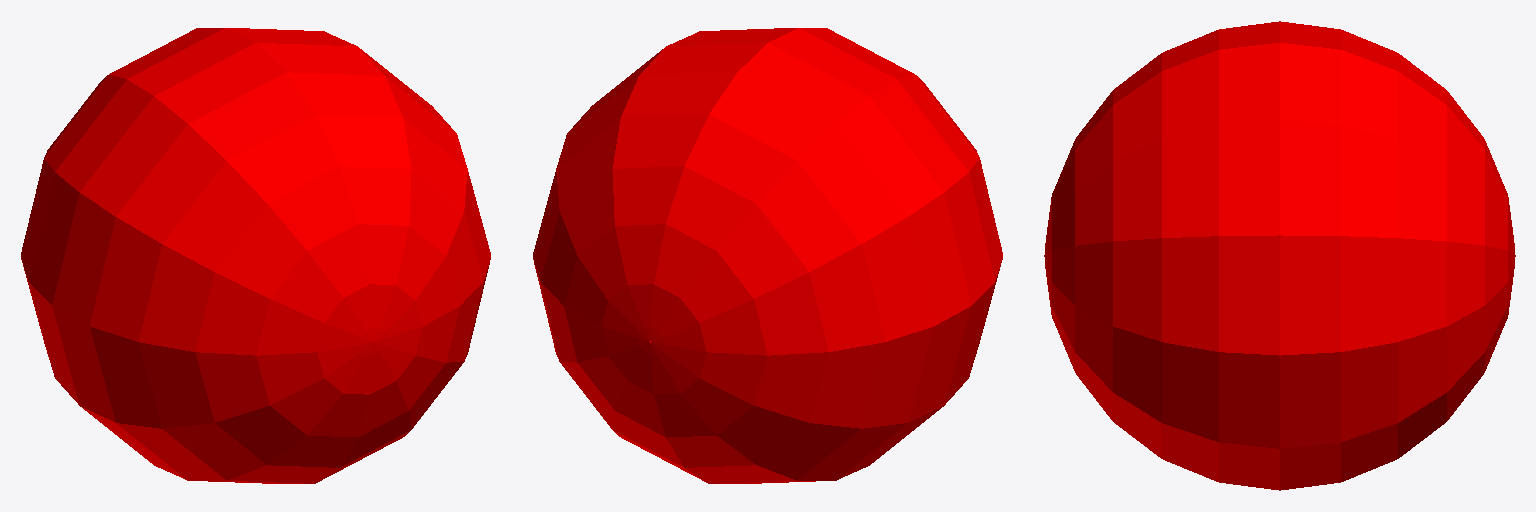
URDF robot description (light):
<?xml version="1.0" ?>
<robot name="light">
  <link name="baseLink">
    <inertial>
      <origin rpy="0 0 0" xyz="0 0 0"/>
       <mass value="0.0"/>
       <inertia ixx="0" ixy="0" ixz="0" iyy="0" iyz="0" izz="0"/>
    </inertial>
    <visual>
      <origin rpy="0 0 0" xyz="0 0 0."/>
      <geometry>
				<mesh filename="sphere.obj" scale="0.3 0.3 0.3"/>      
      </geometry>
      <material name="red">
        <color rgba="1 0 0 1"/>
    </material>
    </visual>
    <collision>
      <origin rpy="0 0 0" xyz="0 0 0."/>
      <geometry>
	      <mesh filename="sphere.obj" scale="0.3 0.3 0.3"/> 
      </geometry>
    </collision>
  </link>
  <lightsource link='baseLink' luminosity='1' color='red'/>



</robot>

--- Facts derived from the render (not from the file) ---
The picture shows the robot from 3 angles, left to right: view 1: azimuth 30°, elevation 25°; view 2: azimuth 150°, elevation 25°; view 3: azimuth 270°, elevation 25°; orthographic projection.
Robot: light — 1 links, 0 joints (none); root link baseLink; default pose: all joints at 0.
Links seen in each view (by area): view 1: baseLink; view 2: baseLink; view 3: baseLink.
Link boxes in pixels (x1,y1,x2,y2): baseLink: (21,28,490,483); baseLink: (533,28,1002,483); baseLink: (1044,21,1515,490).
Bounding box of the posed robot: 0.3 × 0.3 × 0.3 m (x, y, z).
Meshes: 1 distinct files referenced, 1 mesh visuals loaded (1 OBJ).
